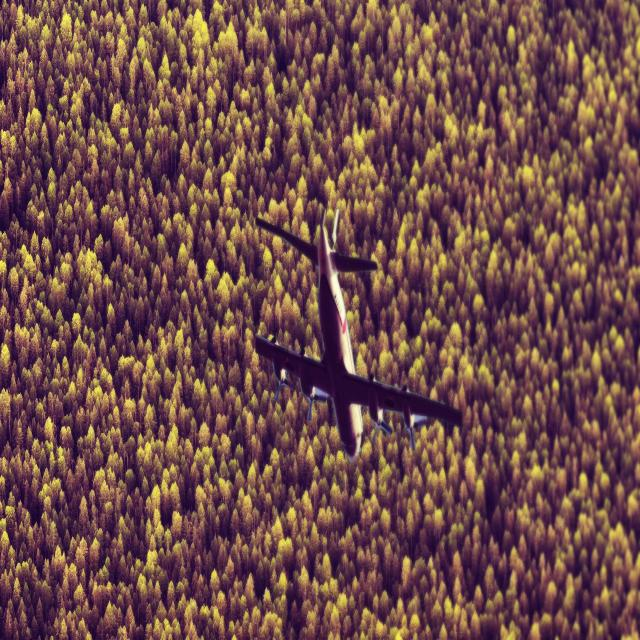airplane: (253, 207, 463, 462)
